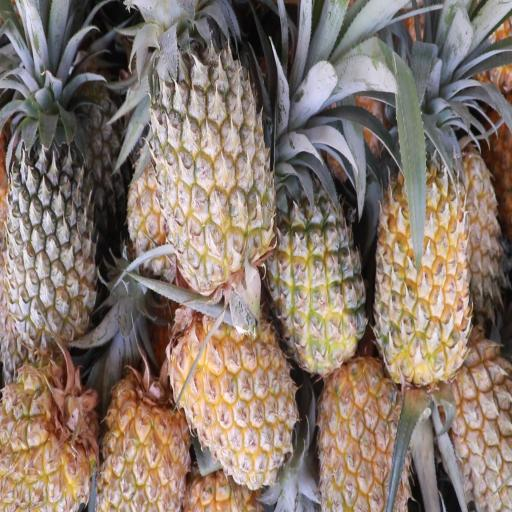------------------------------: (148, 0, 281, 310), (265, 130, 370, 382)
Pineapple - v8 v1: (371, 97, 478, 397), (166, 279, 301, 494), (0, 344, 104, 510), (314, 350, 416, 512), (94, 360, 193, 512), (445, 504, 451, 512)
